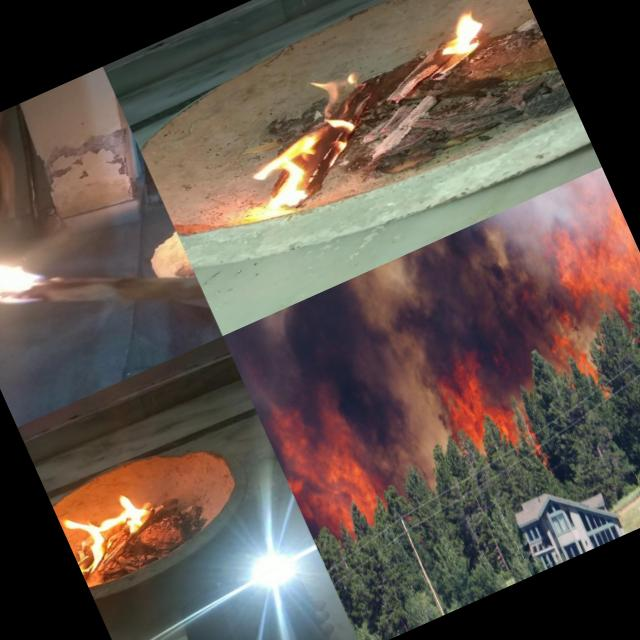fire: (220, 59, 400, 220), (531, 172, 640, 333), (279, 423, 402, 561), (57, 480, 169, 582), (436, 366, 528, 482), (0, 223, 73, 336), (530, 306, 610, 404), (416, 0, 498, 72)
smoke: (303, 267, 464, 494), (379, 199, 577, 371)
